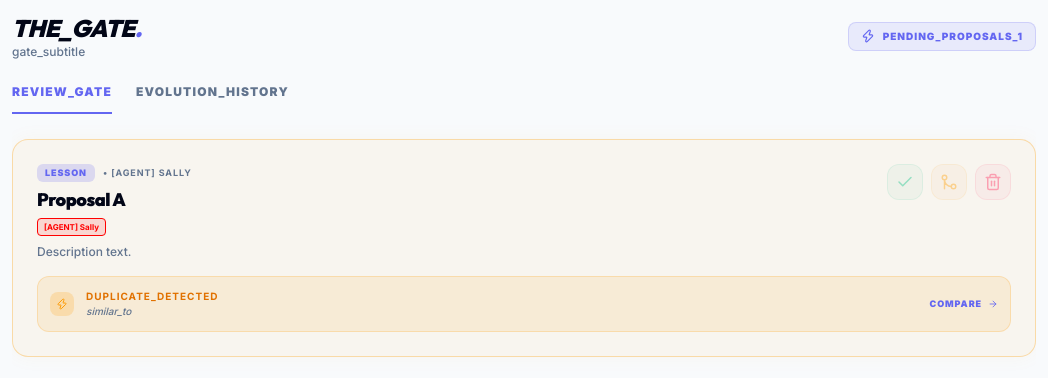
Test: components/gate/TheGate › should render review gate tab with proposal cards and handle tab switches
Expected: the heading "Proposal A" is shown, [37,188,125,210]
Expected: the text "pending_proposals_1" is shown, [883,28,1023,44]
Switch to Evolution History tab
Click the button "evolution_history" at (212,99), box [136,84,289,114]
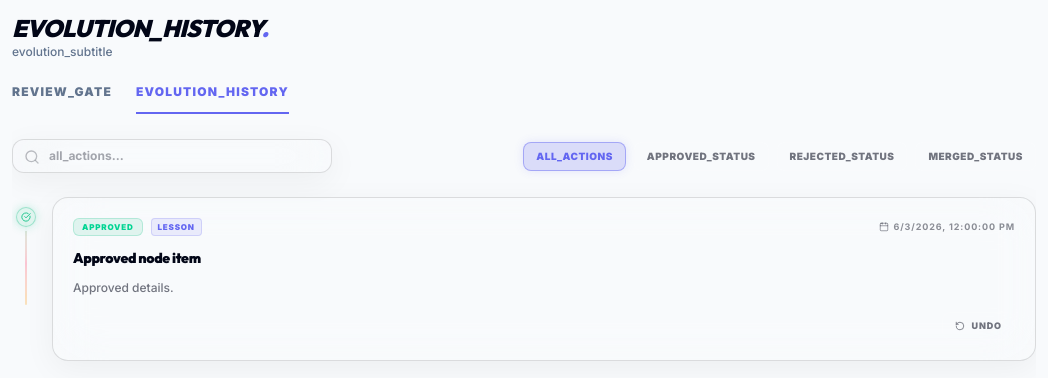
Now the heading "Approved node item" is shown, box [73,249,201,267]
